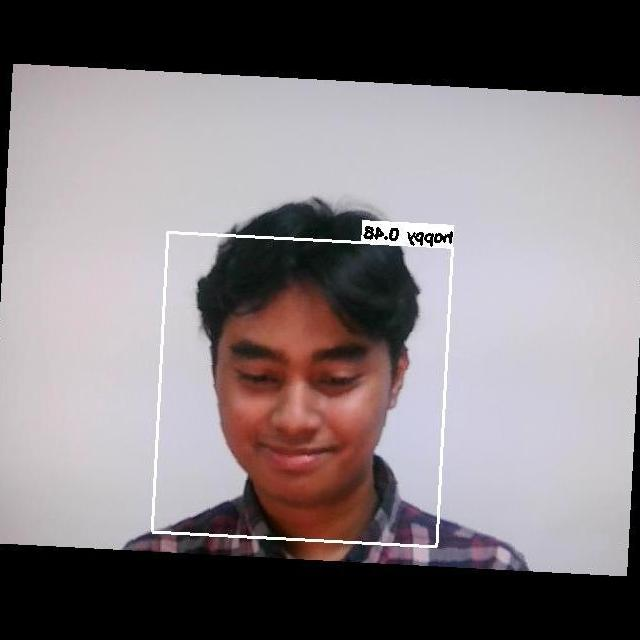Happy: (212, 311, 389, 485)
